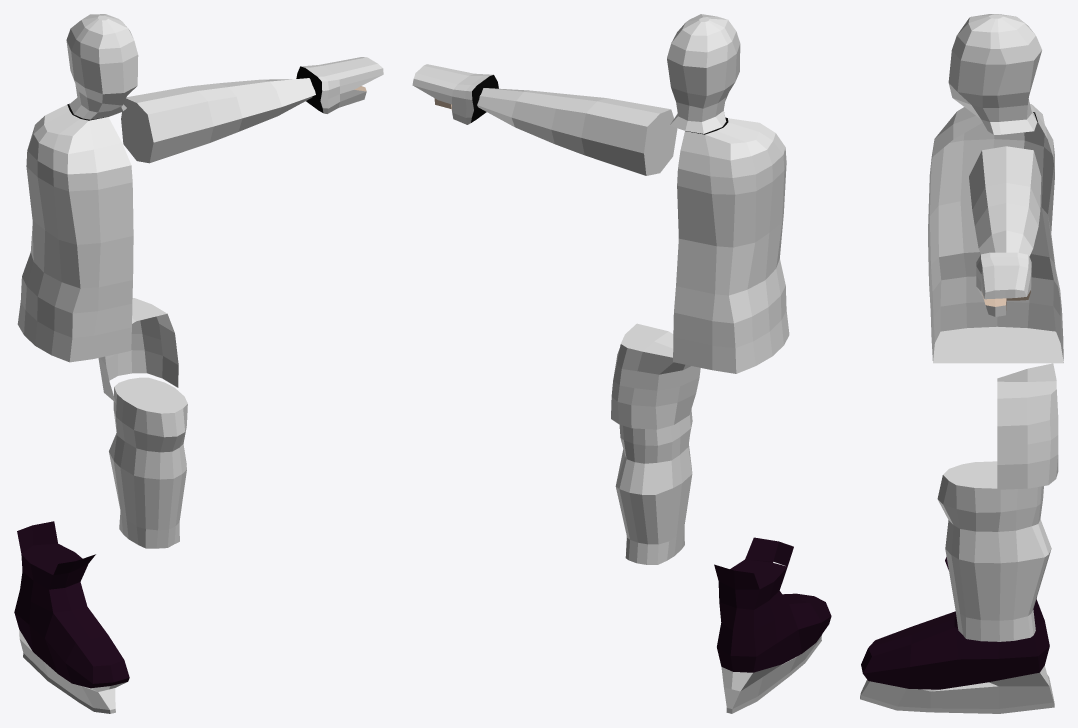
The model's file is second skater.glb.
3 views of the same model, side by side, from view 1: azimuth 30°, elevation 25°; view 2: azimuth 150°, elevation 25°; view 3: azimuth 270°, elevation 25° (orthographic). The views are drawn at different scales.
Parts seen in each view (by area): view 1: Torso, Skates, Legs, Arms, Head, Pants, Gloves; view 2: Torso, Skates, Arms, Legs, Pants, Head, Gloves; view 3: Torso, Legs, Skates, Head, Pants, Arms, Gloves.
Boxes of the visible parts, x1,y1,x2,y2 form: Torso: (17,103,133,362); Skates: (14,521,129,713); Legs: (109,377,187,548); Arms: (121,78,315,163); Head: (66,14,138,119); Pants: (98,298,178,402); Gloves: (296,57,383,113); Torso: (673,117,789,373); Skates: (714,537,831,713); Arms: (477,88,677,175); Legs: (615,409,692,564); Pants: (611,323,700,429); Head: (667,14,740,133); Gloves: (412,64,498,124); Torso: (928,104,1063,363); Legs: (937,461,1051,641); Skates: (860,557,1054,713); Head: (948,14,1041,134); Pants: (997,363,1058,489); Arms: (969,146,1041,256); Gloves: (976,252,1031,316).
Bounding box in the file's own units: 1.4 × 2.49 × 0.6344.
